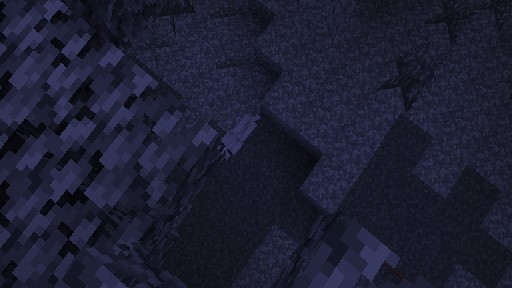wolf: (214, 113, 261, 164)
